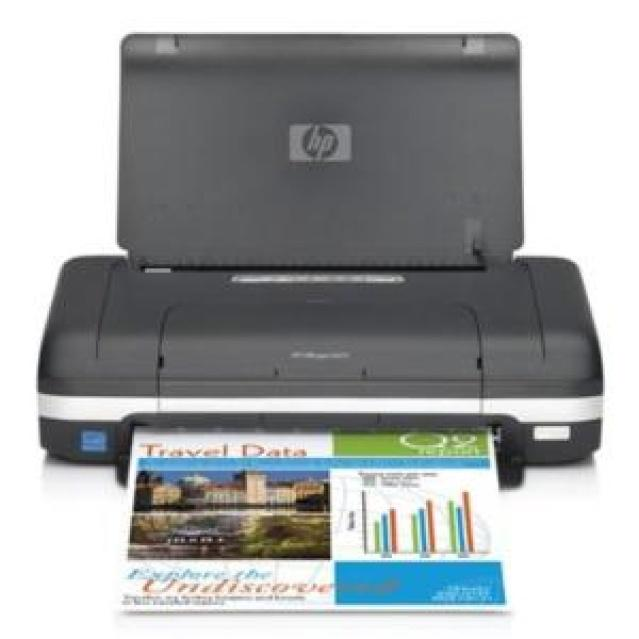Printer: (37, 32, 603, 612)
